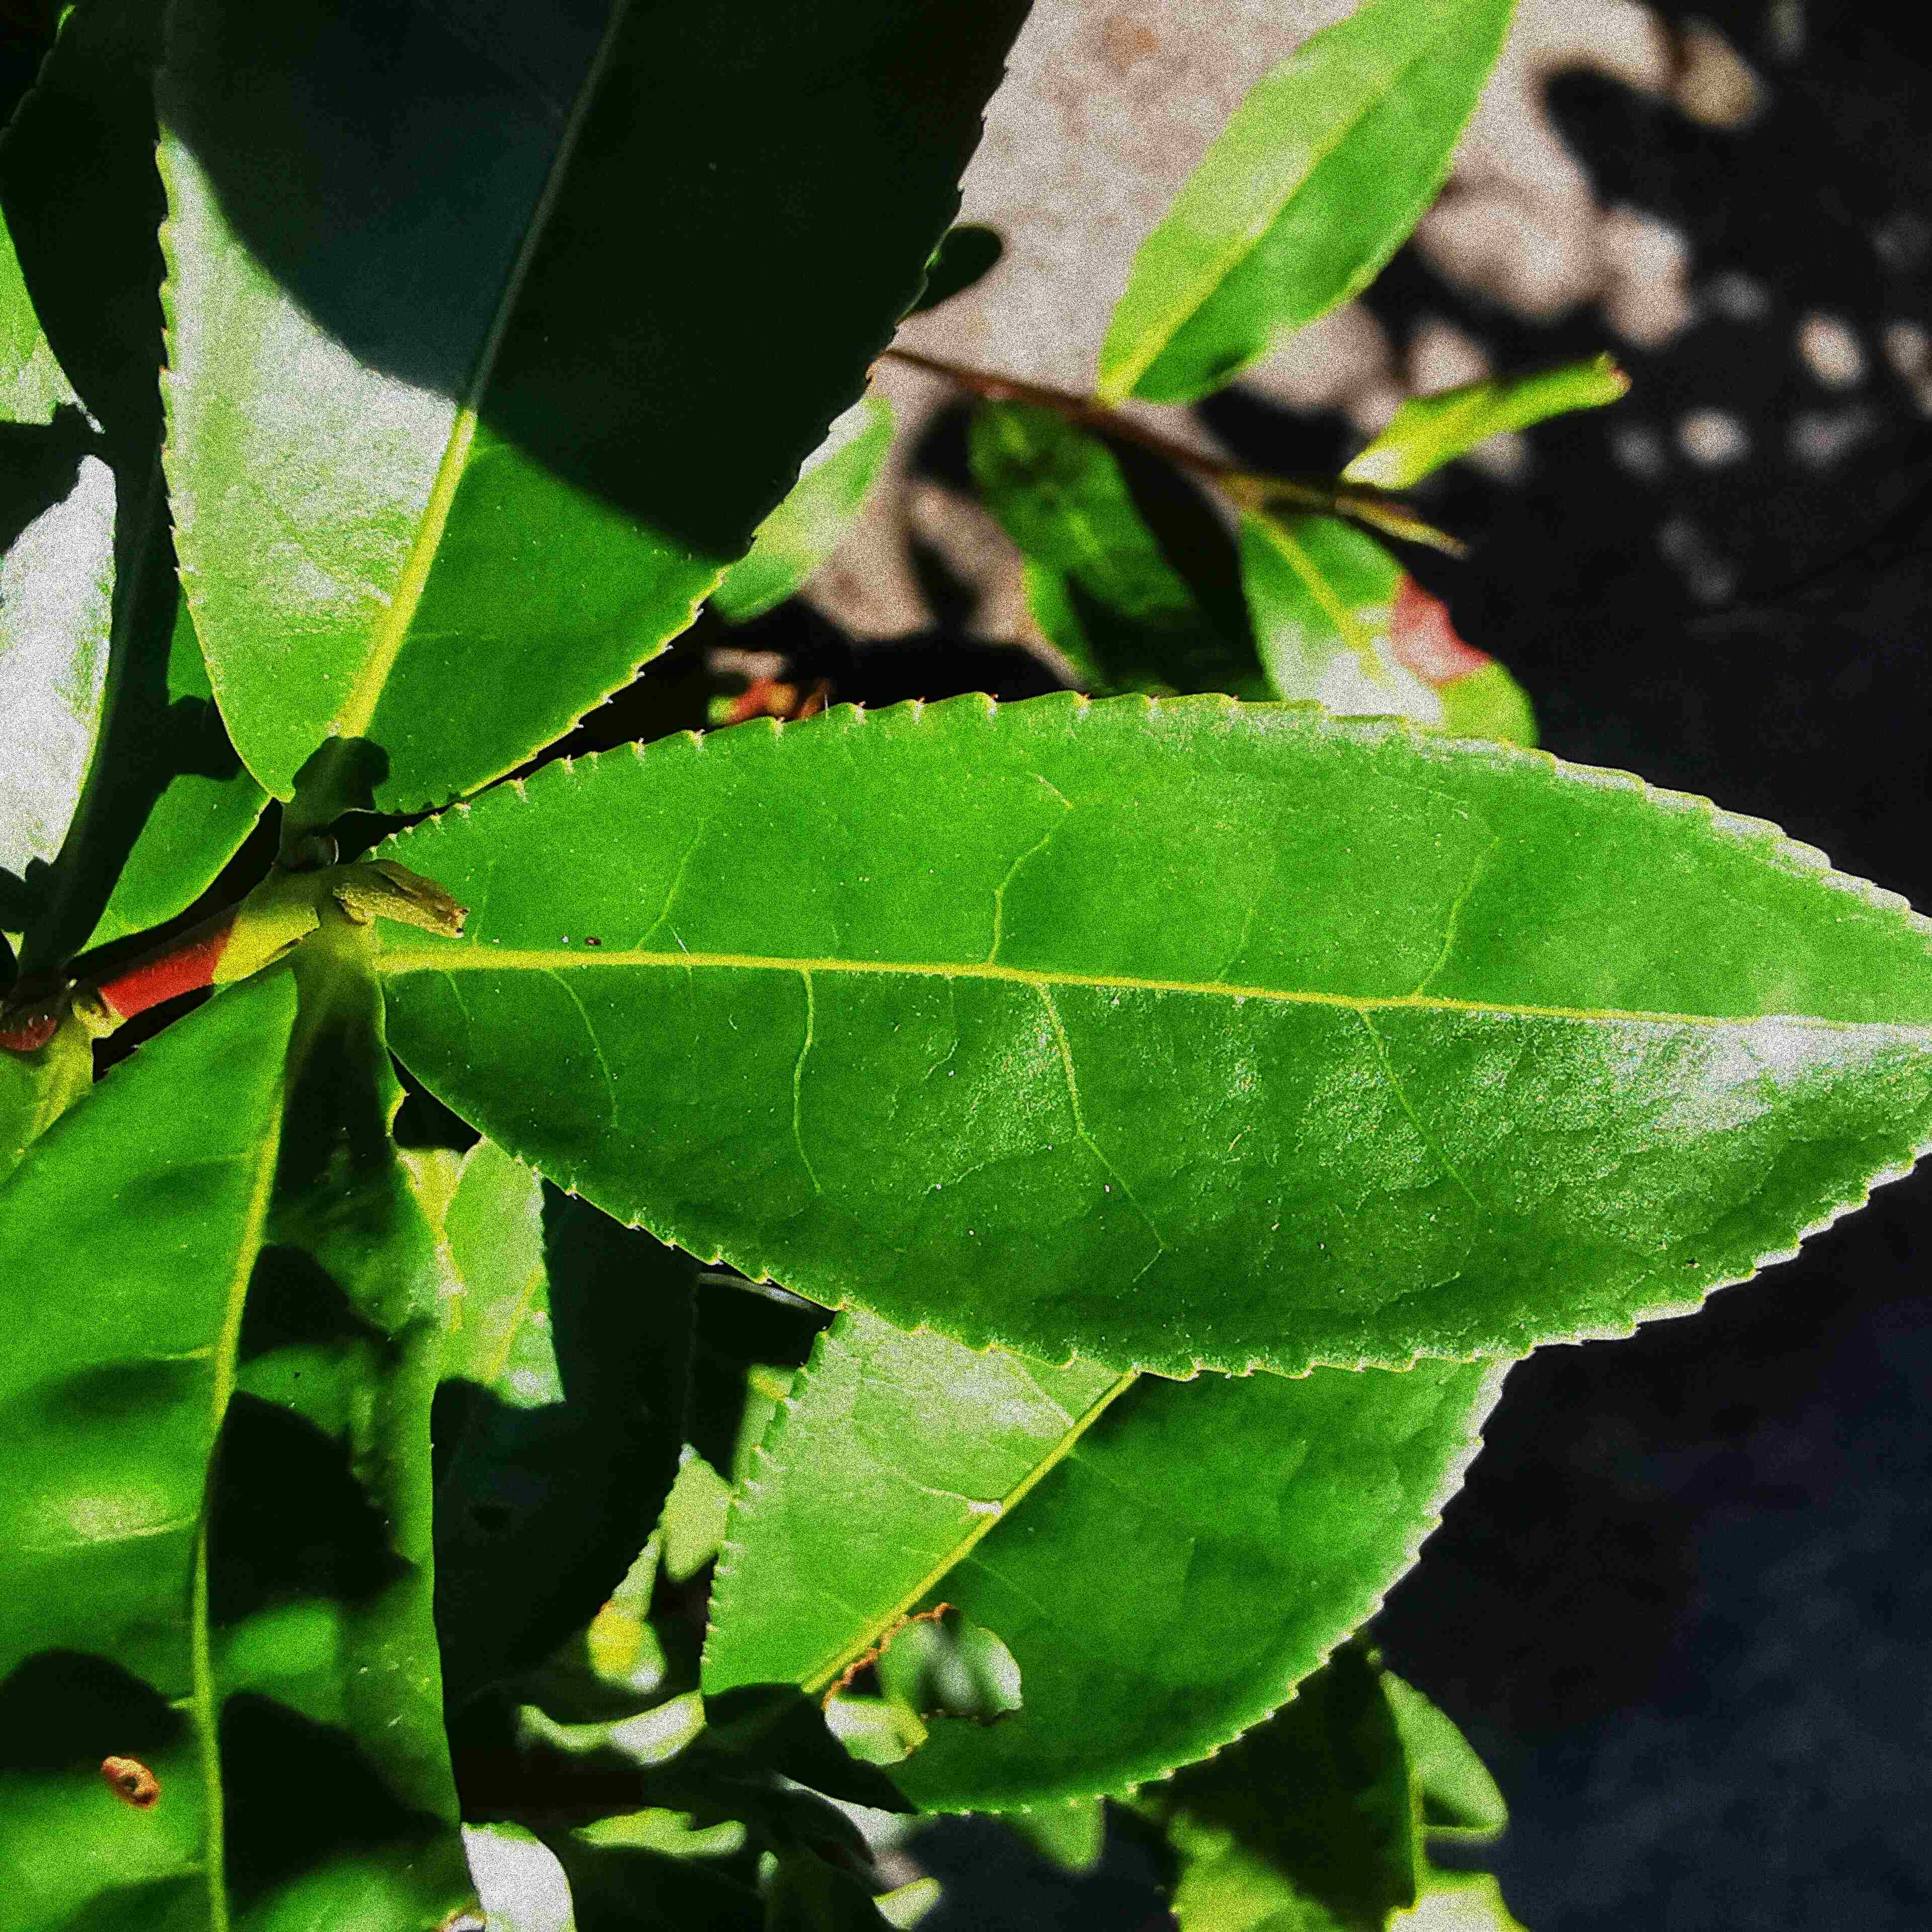chihuo_high: (699, 1299, 1520, 1817)
healthy: (356, 686, 1925, 1389), (1099, 2, 1514, 409)
tanju_high: (1242, 508, 1539, 748)
tanju_low: (5, 931, 488, 1930)
